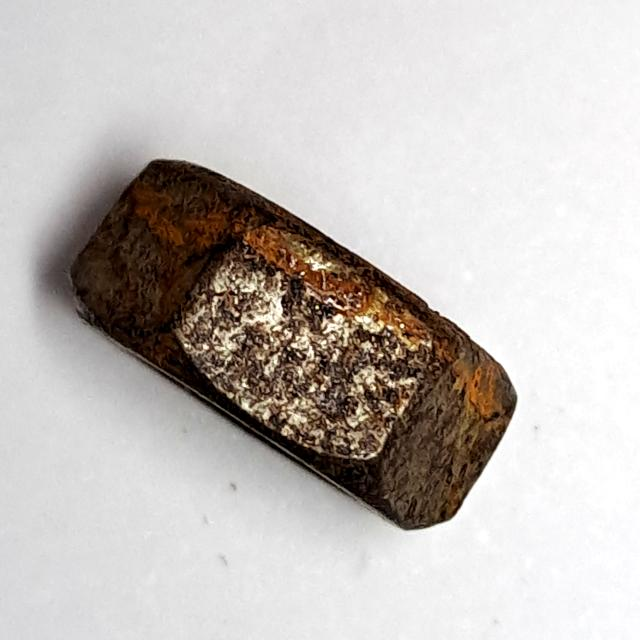Side_Rust: (59, 147, 533, 539)
